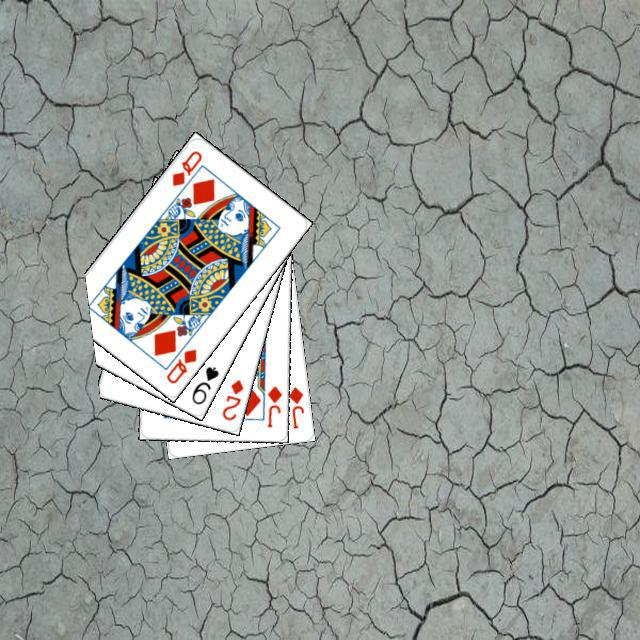2d: (217, 374, 245, 422)
9s: (187, 361, 221, 406)
Jd: (284, 382, 306, 431), (262, 381, 284, 429)
Qd: (167, 145, 204, 188), (161, 344, 198, 385)
